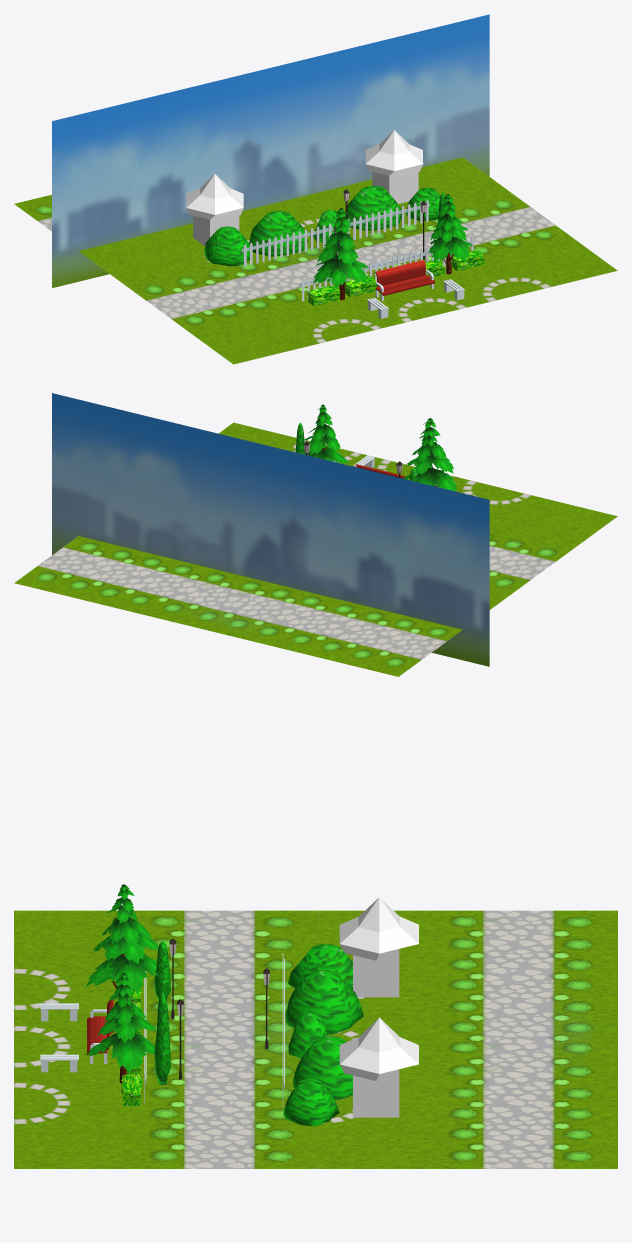
The model's file is Garden 2.fbx.
3 renders of one model, top to bottom at view 1: azimuth 30°, elevation 25°; view 2: azimuth 150°, elevation 25°; view 3: azimuth 270°, elevation 25°, orthographic. The views are drawn at different scales.
Parts seen in each view (by area): view 1: Garden; view 2: Garden; view 3: Garden.
Boxes of the visible parts, x1,y1,x2,y2 form: Garden: (14, 14, 617, 364); Garden: (14, 393, 617, 676); Garden: (14, 884, 617, 1168).
Size of the model in its own units: 31540 by 11632 by 27390.
Materials: 3 (3 with a texture image).
